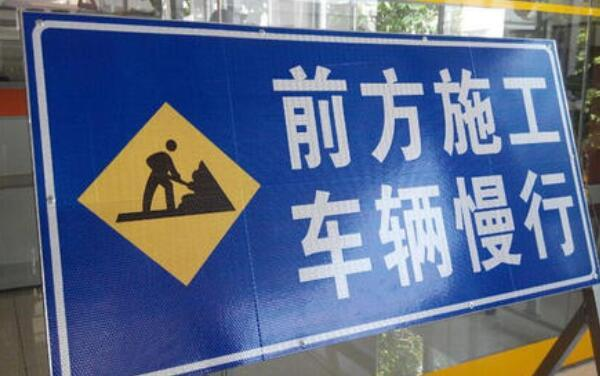sign: (33, 17, 588, 320)
